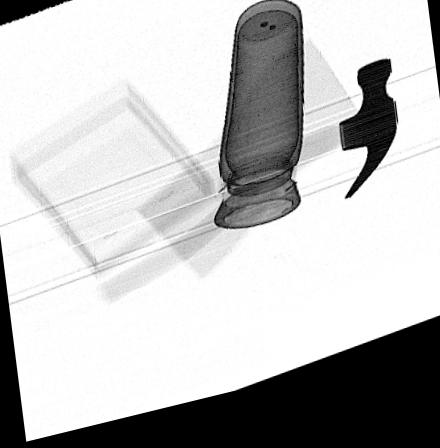Hammer: (65, 76, 398, 252)
